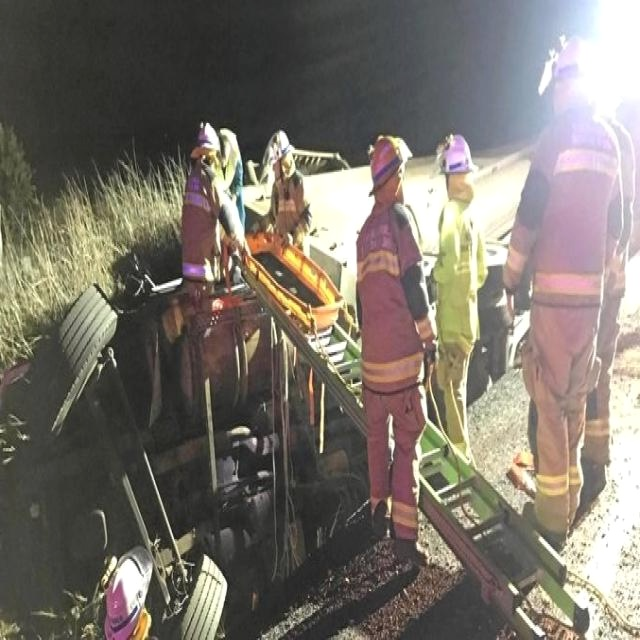Con_Casco: (436, 134, 476, 192)
Con_Chaleco: (357, 207, 419, 390), (435, 202, 481, 341)
